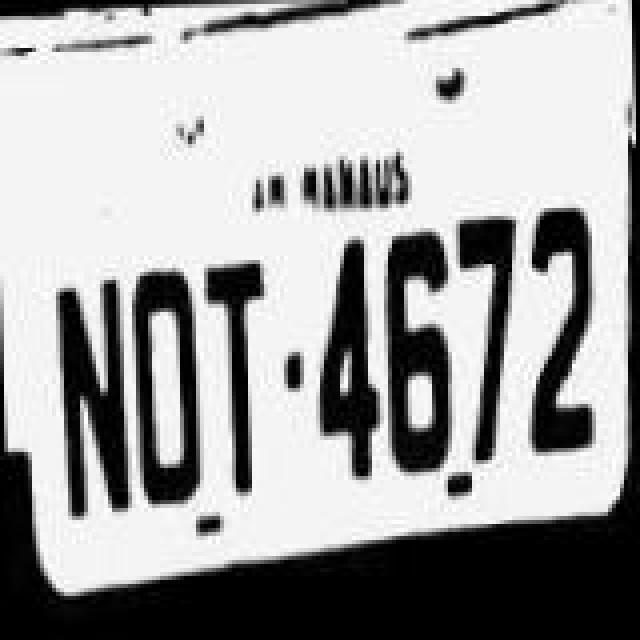2: (516, 194, 604, 462)
4: (306, 228, 386, 488)
6: (374, 216, 462, 476)
7: (448, 202, 528, 470)
N: (48, 262, 132, 522)
O: (118, 258, 206, 514)
T: (194, 246, 282, 498)
